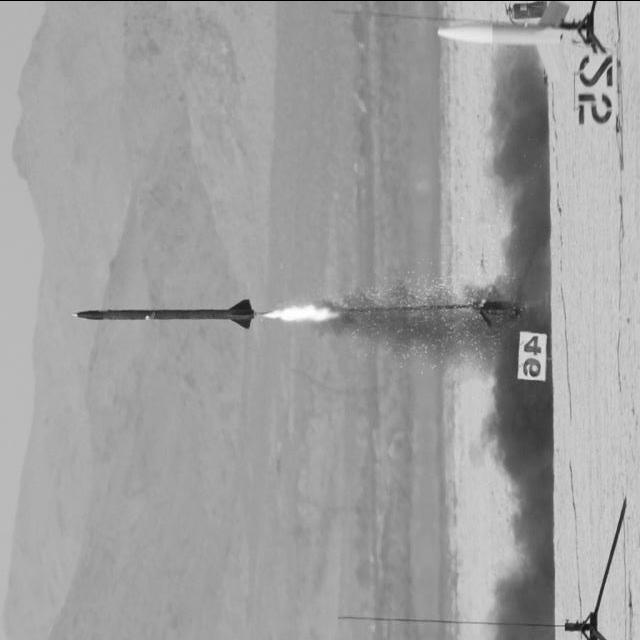missile: (75, 297, 253, 325), (438, 18, 594, 46)
